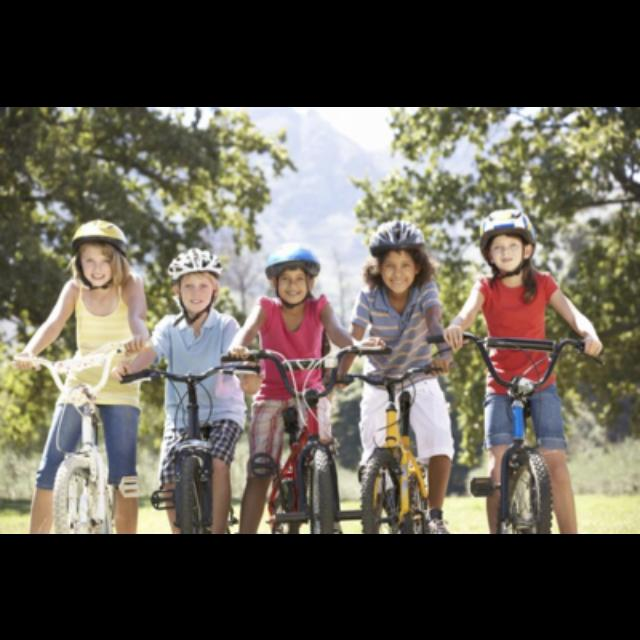With Helmet: (61, 210, 135, 294), (364, 212, 434, 296), (470, 202, 544, 276), (163, 242, 225, 316), (261, 240, 325, 304)
